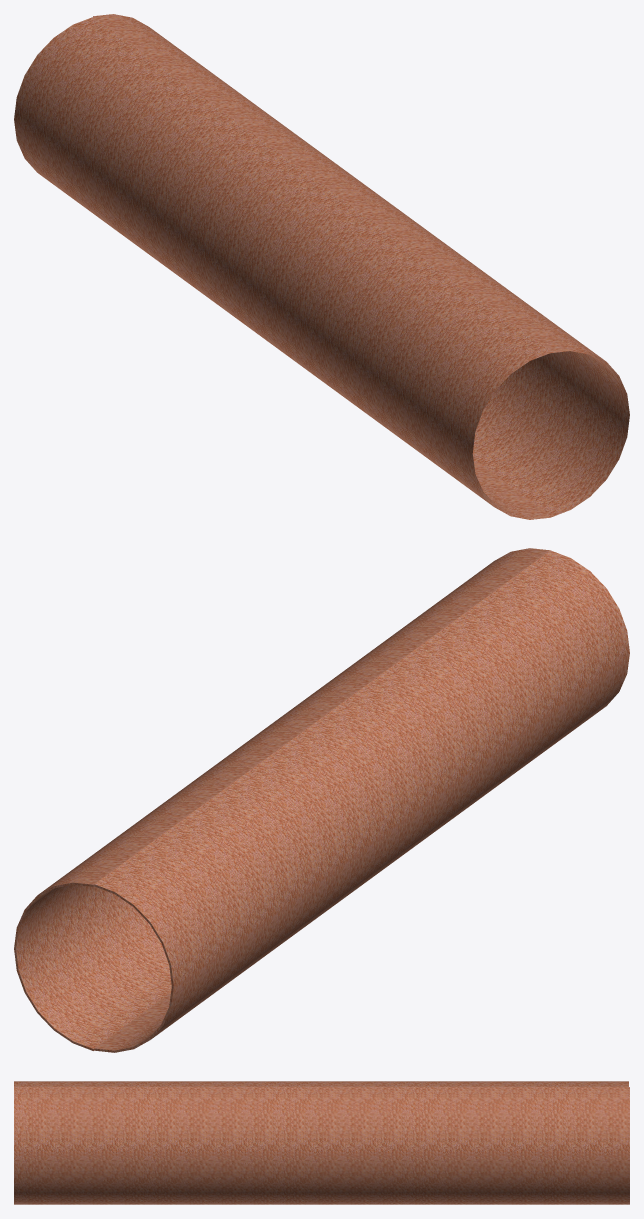
3 views of the same model, one above another, from view 1: azimuth 30°, elevation 25°; view 2: azimuth 150°, elevation 25°; view 3: azimuth 270°, elevation 25° (orthographic). The views are drawn at different scales.
Parts seen in each view (by area): view 1: root; view 2: root; view 3: root.
Boxes of the visible parts, x1,y1,x2,y2 form: root: (14, 14, 629, 519); root: (14, 548, 629, 1052); root: (14, 1081, 629, 1204).
Size of the model in its own units: 1.76 by 1.76 by 8.74.
Materials: 1 (1 with a texture image).
